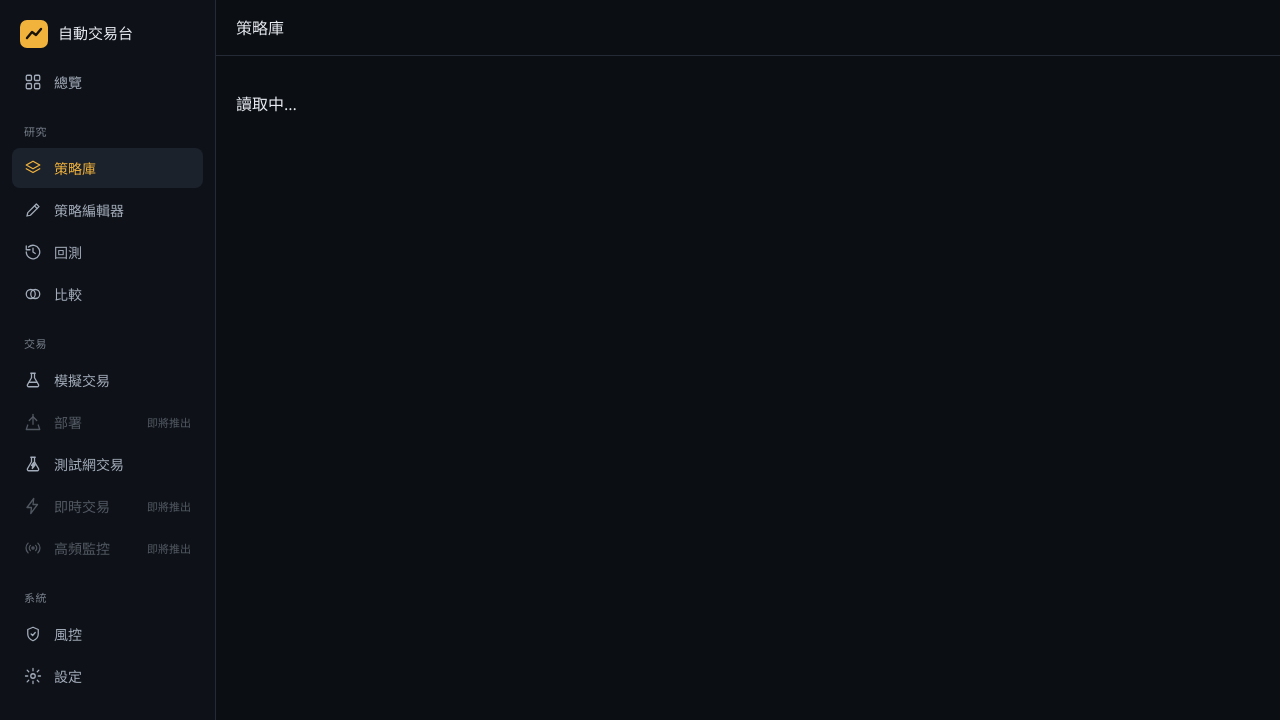
Test: App › 點擊「總覽」切換到總覽分頁
Click the button "總覽" at (108, 82), box [12,62,203,102]
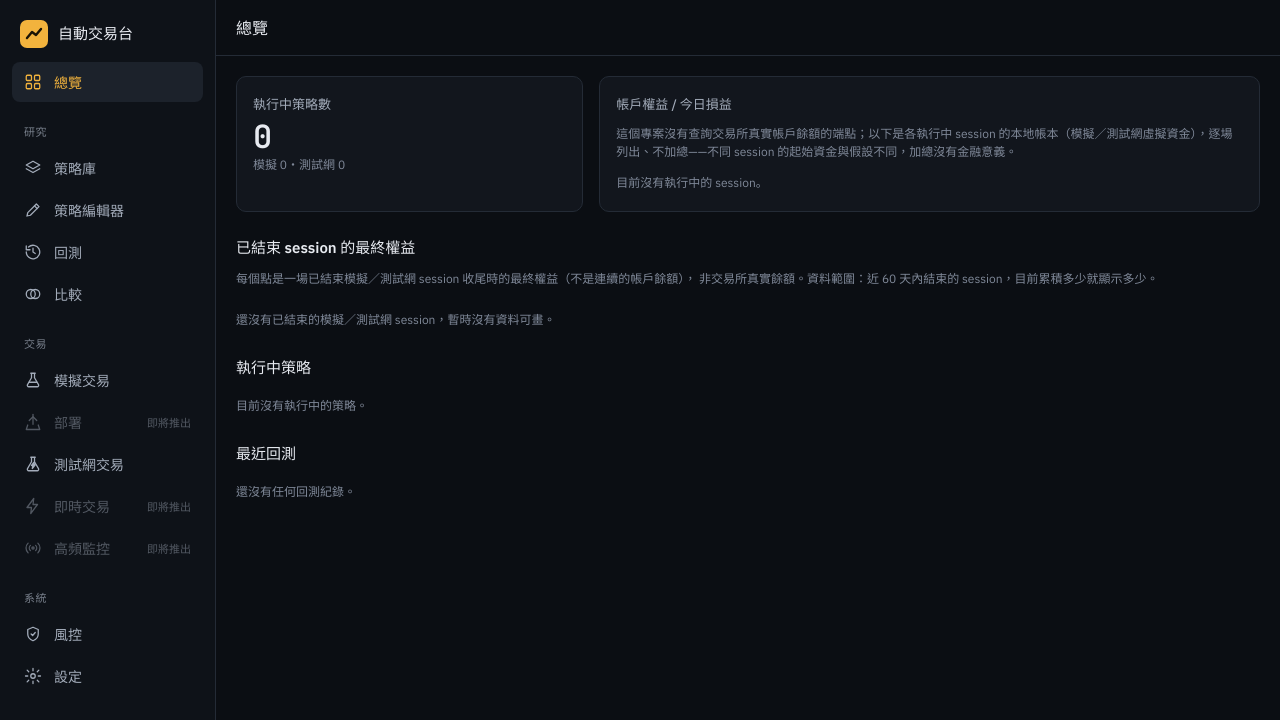
Check: the heading "總覽" is shown, box [236,16,268,40]
